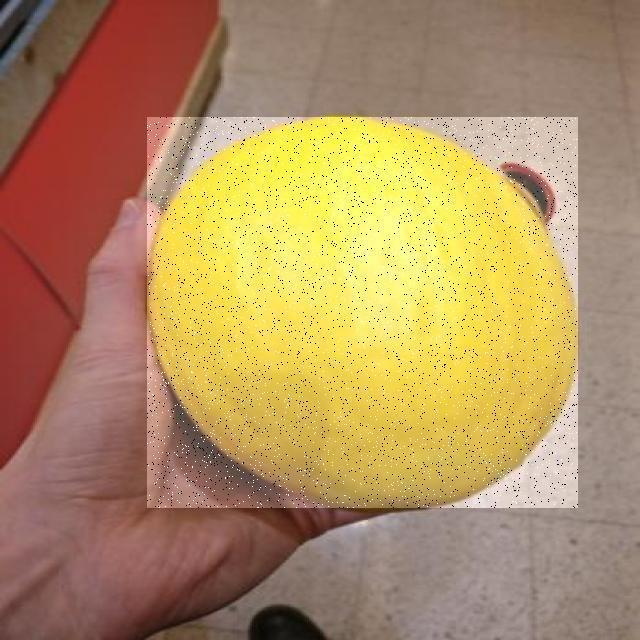Honey Dew: (147, 117, 578, 508)
